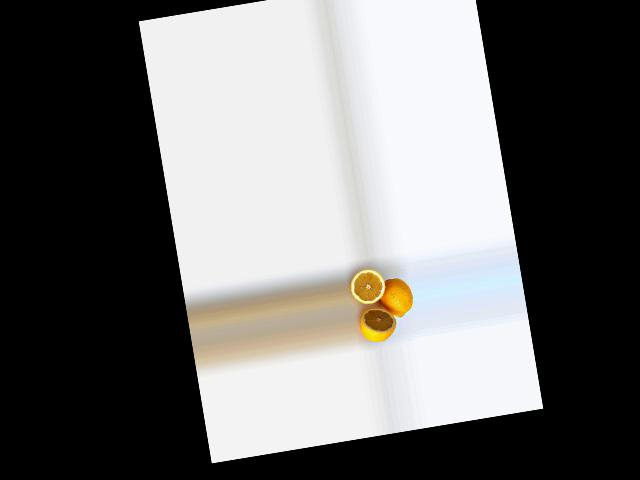lemon: (377, 272, 416, 323)
